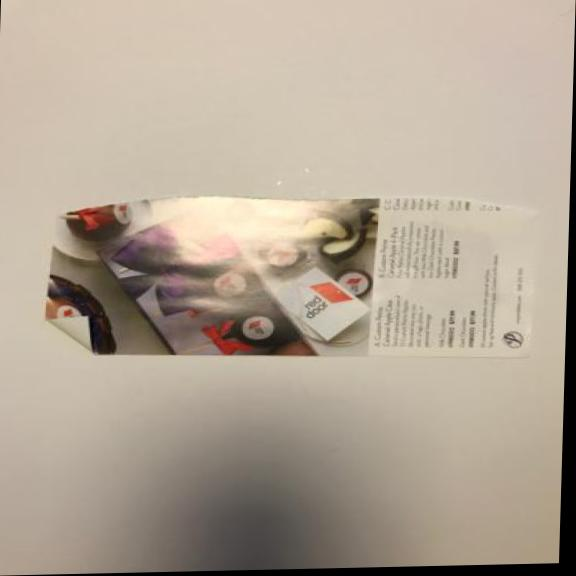Kertas: (39, 186, 560, 374)
